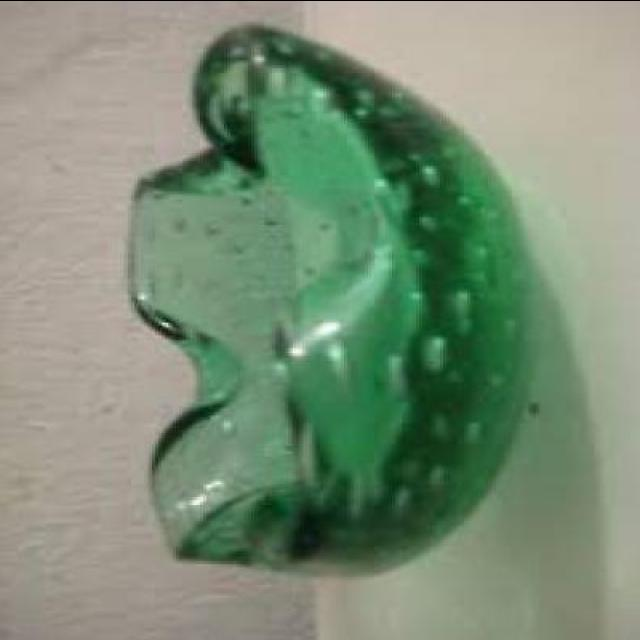kaca: (124, 26, 522, 580)
